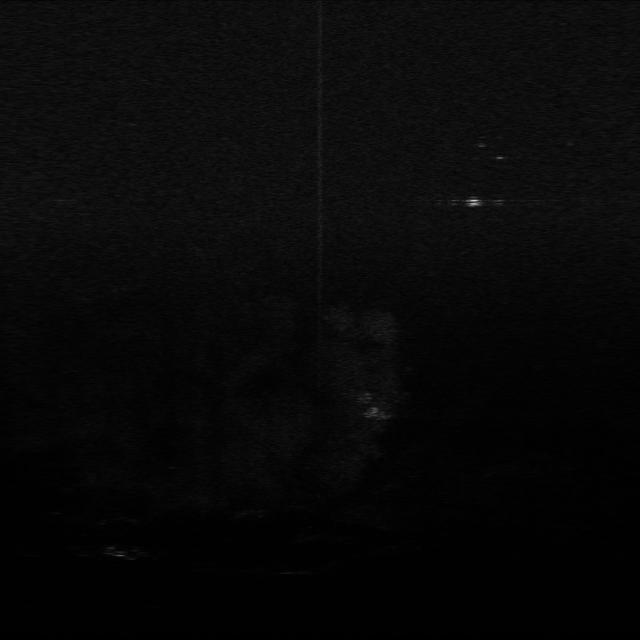rov: (462, 193, 483, 211)
